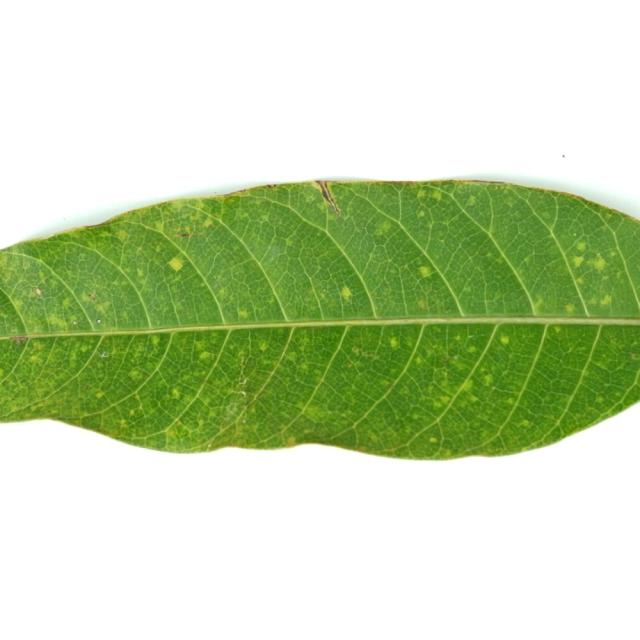Mango: (0, 180, 639, 458)
Powdery_Mildew: (510, 189, 558, 231), (228, 354, 255, 426), (423, 217, 458, 254), (395, 193, 408, 238), (337, 282, 356, 305), (82, 219, 123, 229), (263, 243, 283, 263), (370, 179, 425, 186), (350, 346, 379, 359), (47, 316, 68, 332), (167, 256, 185, 272), (439, 354, 460, 366), (376, 220, 392, 235), (592, 256, 606, 271), (10, 335, 29, 346), (304, 404, 321, 416), (459, 380, 474, 393), (532, 295, 544, 311), (357, 445, 378, 454), (571, 255, 584, 268), (522, 254, 536, 266), (599, 294, 612, 306), (129, 369, 143, 380), (198, 351, 213, 361), (418, 266, 432, 276), (564, 303, 576, 314), (71, 420, 87, 428), (431, 190, 442, 201), (482, 374, 493, 385), (32, 287, 43, 298), (150, 335, 161, 346), (417, 299, 428, 310), (286, 353, 297, 364), (389, 336, 399, 348), (576, 241, 587, 251), (499, 335, 510, 345), (417, 189, 428, 199), (258, 343, 269, 353), (203, 218, 214, 228), (116, 230, 127, 240), (154, 221, 164, 232), (317, 201, 327, 212), (285, 436, 296, 446), (218, 287, 227, 299), (62, 297, 71, 309), (69, 351, 77, 364), (467, 195, 477, 205), (260, 212, 270, 222), (306, 192, 316, 202), (238, 309, 249, 318), (79, 345, 90, 354), (37, 271, 46, 282), (238, 211, 249, 220), (462, 285, 473, 294), (333, 207, 342, 218), (29, 355, 41, 363), (467, 345, 477, 354), (440, 395, 450, 404), (369, 433, 379, 442), (166, 429, 176, 438), (301, 335, 310, 345), (136, 267, 144, 278), (171, 389, 180, 398), (414, 355, 423, 364), (505, 398, 515, 406), (380, 281, 390, 289), (380, 380, 391, 387), (576, 276, 584, 285), (417, 210, 426, 218), (95, 391, 104, 399), (285, 238, 294, 246), (119, 419, 127, 428), (300, 363, 309, 371), (443, 449, 452, 457), (496, 256, 505, 264), (88, 293, 97, 301), (235, 189, 247, 195), (552, 326, 562, 333), (521, 419, 531, 426), (0, 368, 7, 378), (178, 233, 191, 238), (319, 292, 327, 300), (596, 395, 604, 403), (412, 412, 421, 419), (197, 419, 205, 426), (268, 296, 275, 304), (100, 351, 108, 358), (351, 347, 359, 354), (266, 184, 277, 189), (429, 437, 438, 443), (129, 409, 136, 416), (455, 334, 462, 341), (109, 328, 117, 334), (487, 252, 494, 258), (239, 378, 246, 384), (206, 443, 212, 449), (83, 385, 89, 391), (635, 353, 640, 360), (11, 329, 18, 333), (96, 319, 101, 323), (63, 217, 66, 221), (213, 191, 217, 194)
